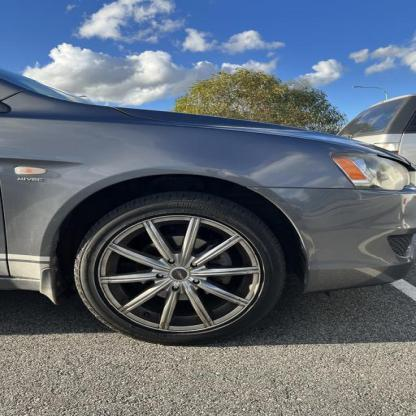Tire: (72, 189, 290, 348)
